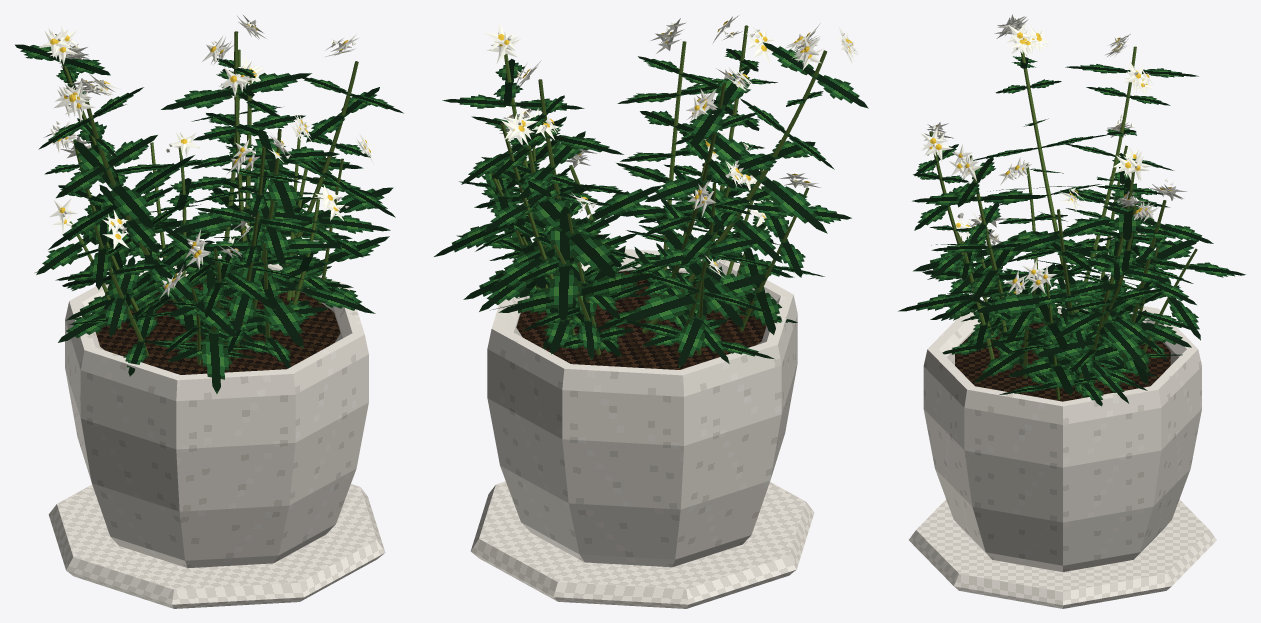
Rendered from jasmine.obj.
The picture shows the model from 3 angles, left to right: view 1: azimuth 30°, elevation 25°; view 2: azimuth 150°, elevation 25°; view 3: azimuth 270°, elevation 25°; orthographic projection. The views are drawn at different scales.
Visible parts, largest first — view 1: Pot, Saucer, Soil, JasLeaf_020, JasLeaf_040, JasLeaf_019, JasLeaf_128, JasLeaf_021, JasLeaf_073, JasLeaf_133, JasLeaf_100, JasLeaf_111 (+33 smaller); view 2: Pot, Saucer, Soil, JasLeaf_019, JasLeaf_096, JasLeaf_052, JasLeaf_091, JasLeaf_090, JasLeaf_053, JasLeaf_011, JasLeaf_023, JasLeaf_105 (+36 smaller); view 3: Pot, Saucer, Soil, JasLeaf_117, JasLeaf_125, JasLeaf_065, JasLeaf_073, JasLeaf_111, JasLeaf_087, JasLeaf_058, JasLeaf_070, JasLeaf_040 (+29 smaller).
Part boxes in pixels (left/top/right/bottom): Pot: left=65, top=257, right=368, bottom=568; Saucer: left=48, top=484, right=385, bottom=608; Soil: left=96, top=279, right=340, bottom=374; JasLeaf_020: left=74, top=140, right=153, bottom=229; JasLeaf_040: left=161, top=73, right=311, bottom=109; JasLeaf_019: left=48, top=155, right=194, bottom=249; JasLeaf_128: left=198, top=267, right=232, bottom=393; JasLeaf_021: left=56, top=135, right=157, bottom=198; JasLeaf_073: left=253, top=128, right=301, bottom=220; JasLeaf_133: left=156, top=267, right=236, bottom=337; JasLeaf_100: left=159, top=223, right=276, bottom=310; JasLeaf_111: left=232, top=239, right=303, bottom=348; Pot: left=487, top=248, right=797, bottom=567; Saucer: left=470, top=481, right=814, bottom=608; Soil: left=516, top=270, right=766, bottom=369; JasLeaf_019: left=705, top=132, right=827, bottom=233; JasLeaf_096: left=529, top=193, right=615, bottom=279; JasLeaf_052: left=623, top=272, right=769, bottom=322; JasLeaf_091: left=545, top=204, right=583, bottom=322; JasLeaf_090: left=498, top=271, right=656, bottom=313; JasLeaf_053: left=662, top=230, right=743, bottom=328; JasLeaf_011: left=689, top=65, right=750, bottom=147; JasLeaf_023: left=762, top=42, right=868, bottom=108; JasLeaf_105: left=737, top=248, right=781, bottom=334; Pot: left=923, top=302, right=1201, bottom=571; Saucer: left=909, top=499, right=1216, bottom=608; Soil: left=955, top=314, right=1170, bottom=401; JasLeaf_117: left=975, top=279, right=1122, bottom=315; JasLeaf_125: left=1061, top=269, right=1147, bottom=371; JasLeaf_065: left=1011, top=219, right=1111, bottom=251; JasLeaf_073: left=912, top=189, right=1045, bottom=206; JasLeaf_111: left=898, top=280, right=1031, bottom=311; JasLeaf_087: left=1055, top=285, right=1151, bottom=337; JasLeaf_058: left=1007, top=340, right=1144, bottom=376; JasLeaf_070: left=969, top=236, right=1020, bottom=301; JasLeaf_040: left=1111, top=177, right=1144, bottom=241.
Size of the model in its own units: 2.07 by 2.71 by 1.86.
